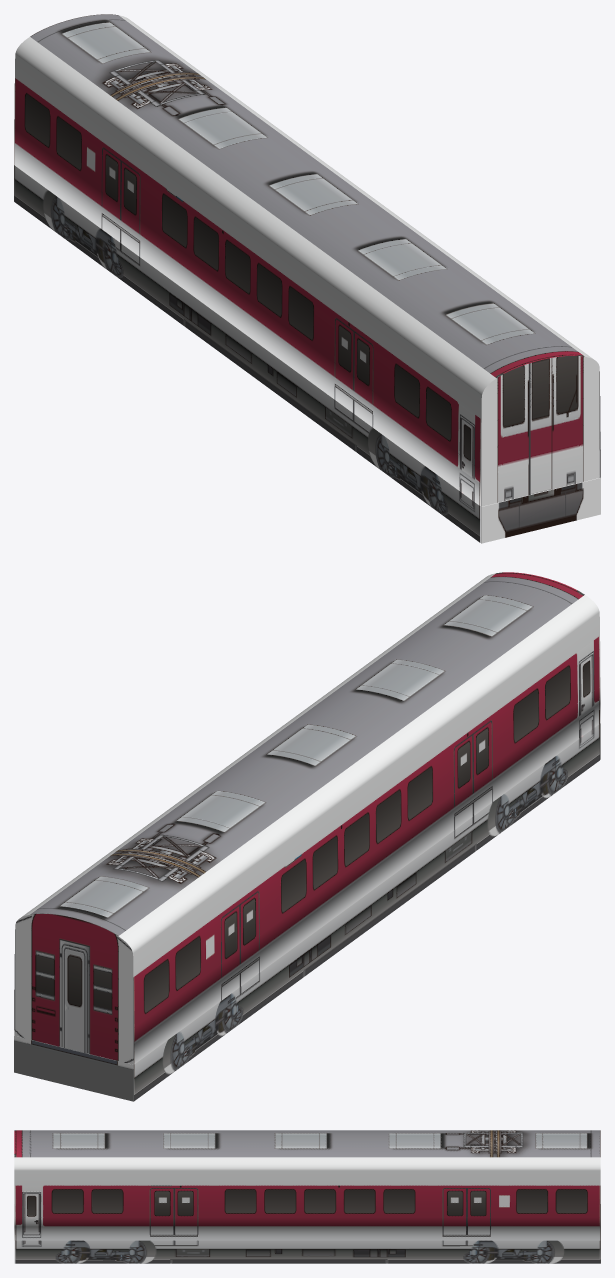
File: car1.glb
3 renders of one model, top to bottom at view 1: azimuth 30°, elevation 25°; view 2: azimuth 150°, elevation 25°; view 3: azimuth 270°, elevation 25°, orthographic. The views are drawn at different scales.
Parts seen in each view (by area): view 1: iga-860-car1; view 2: iga-860-car1; view 3: iga-860-car1.
Part boxes in pixels (bbox=[...]): iga-860-car1: bbox=[14, 14, 600, 543]; iga-860-car1: bbox=[14, 572, 600, 1101]; iga-860-car1: bbox=[14, 1130, 600, 1263].
Size of the model in its own units: 2.74 by 3.69 by 18.53.
9 materials, 8 textured.
